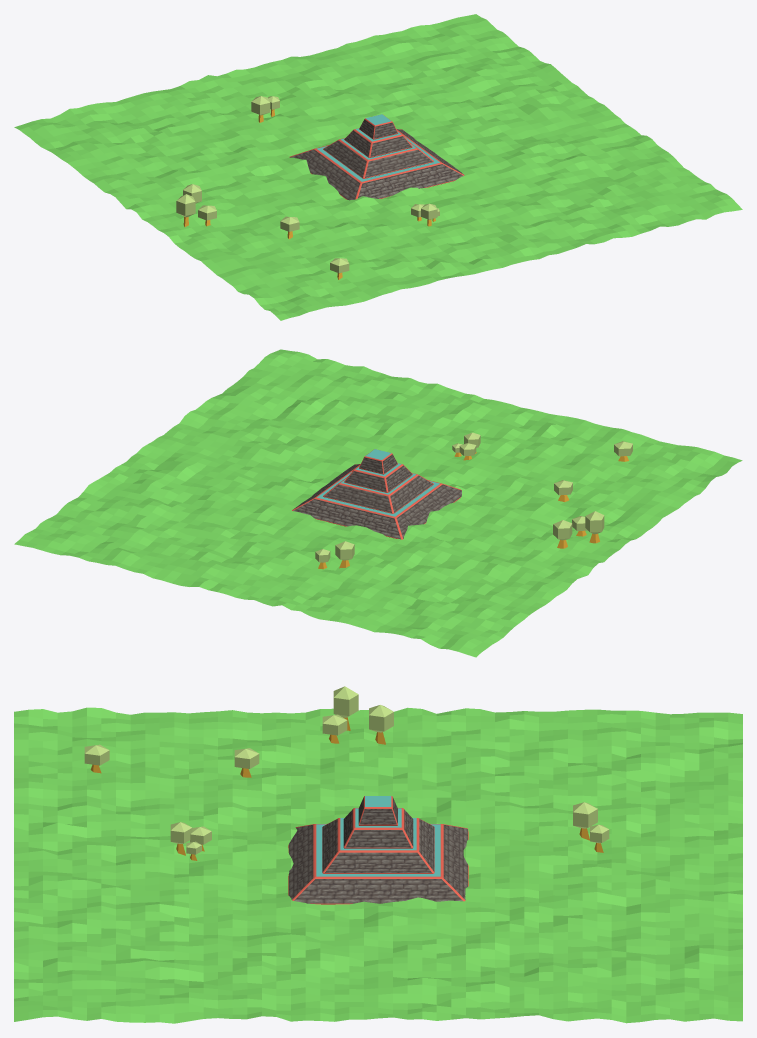
File: piramide.obj
3 renders of one model, top to bottom at view 1: azimuth 30°, elevation 25°; view 2: azimuth 150°, elevation 25°; view 3: azimuth 270°, elevation 25°, orthographic. The views are drawn at different scales.
Parts seen in each view (by area): view 1: Cube.001_Cube.002, Cube; view 2: Cube.001_Cube.002, Cube; view 3: Cube.001_Cube.002, Cube, Sphere.008, Sphere.009, Sphere.006, Sphere.001.
Boxes of the visible parts, <box> form: Cube.001_Cube.002: <box>14,14,742,320</box>; Cube: <box>289,114,464,200</box>; Cube.001_Cube.002: <box>14,349,742,657</box>; Cube: <box>292,449,461,539</box>; Cube.001_Cube.002: <box>14,707,742,1023</box>; Cube: <box>288,796,468,904</box>; Sphere.008: <box>333,686,358,730</box>; Sphere.009: <box>369,705,393,744</box>; Sphere.006: <box>573,802,597,840</box>; Sphere.001: <box>234,748,259,777</box>.
Size of the model in its own units: 45.75 by 4.82 by 45.75.
Materials: 2 (2 with a texture image).
